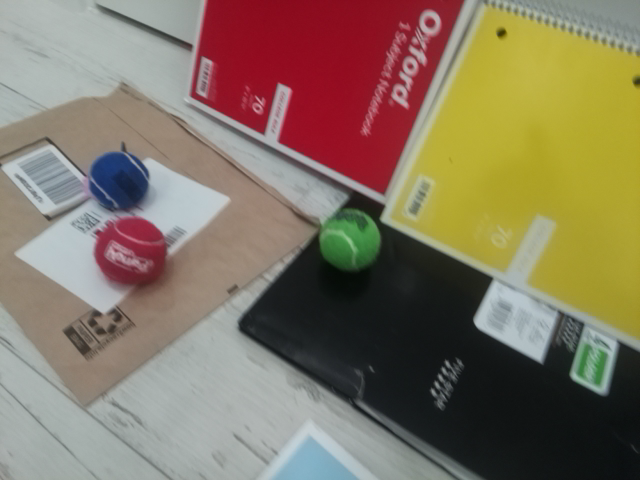blue-ball: (88, 148, 150, 211)
green-ball: (318, 207, 382, 274)
red-ball: (94, 216, 168, 287)
